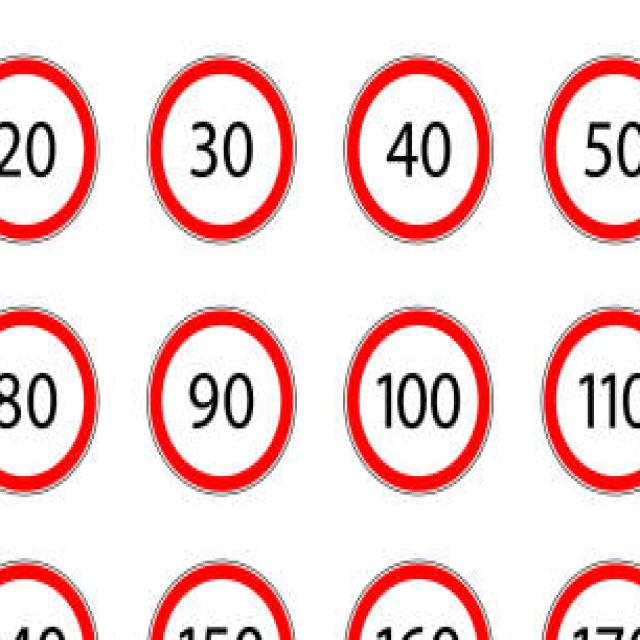Speed Limit -90-: (142, 298, 304, 507)
